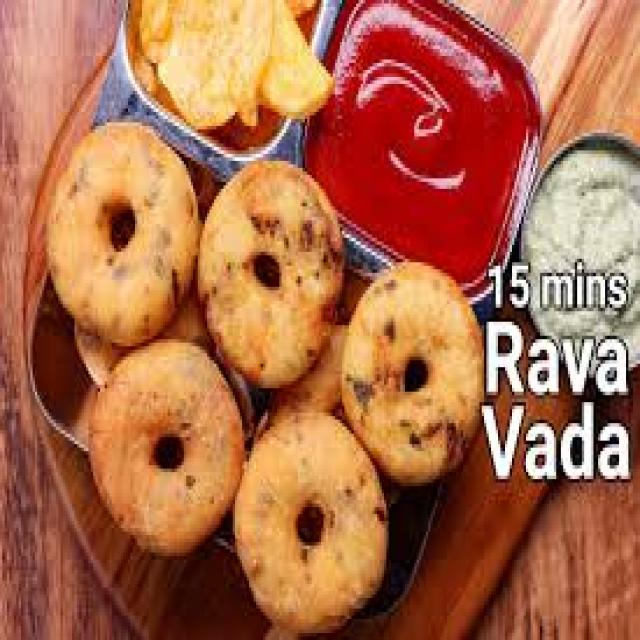MEDU VADA: (47, 119, 201, 346), (236, 411, 386, 636), (198, 160, 344, 388), (342, 259, 486, 483), (95, 342, 239, 556)
